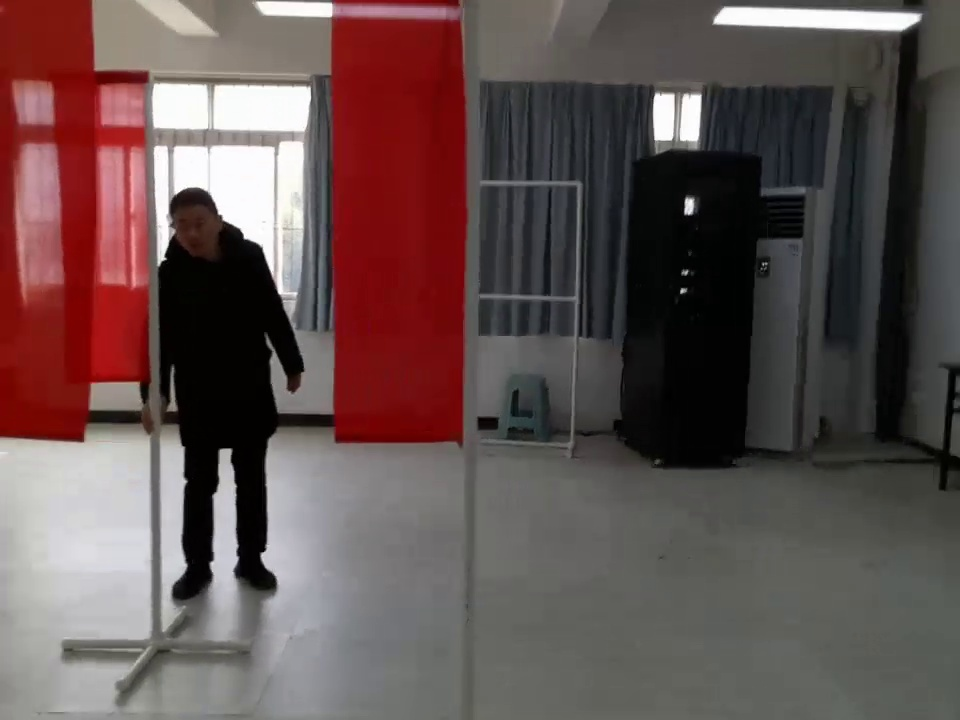qi: (297, 1, 485, 450), (1, 1, 95, 443), (89, 66, 163, 398)
